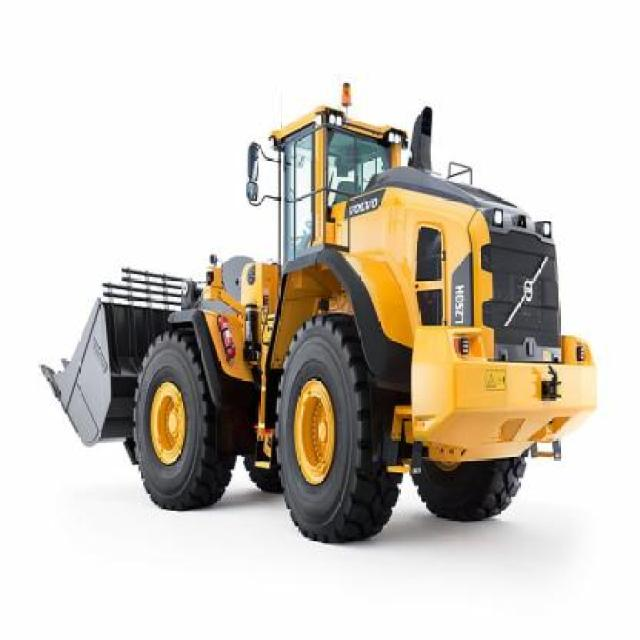buldozerpayloadergrader: (26, 84, 603, 554)
